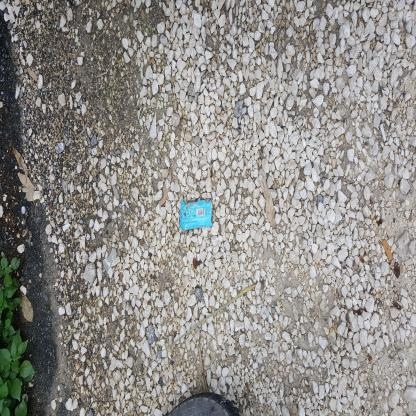trash: (102, 316, 126, 383)
